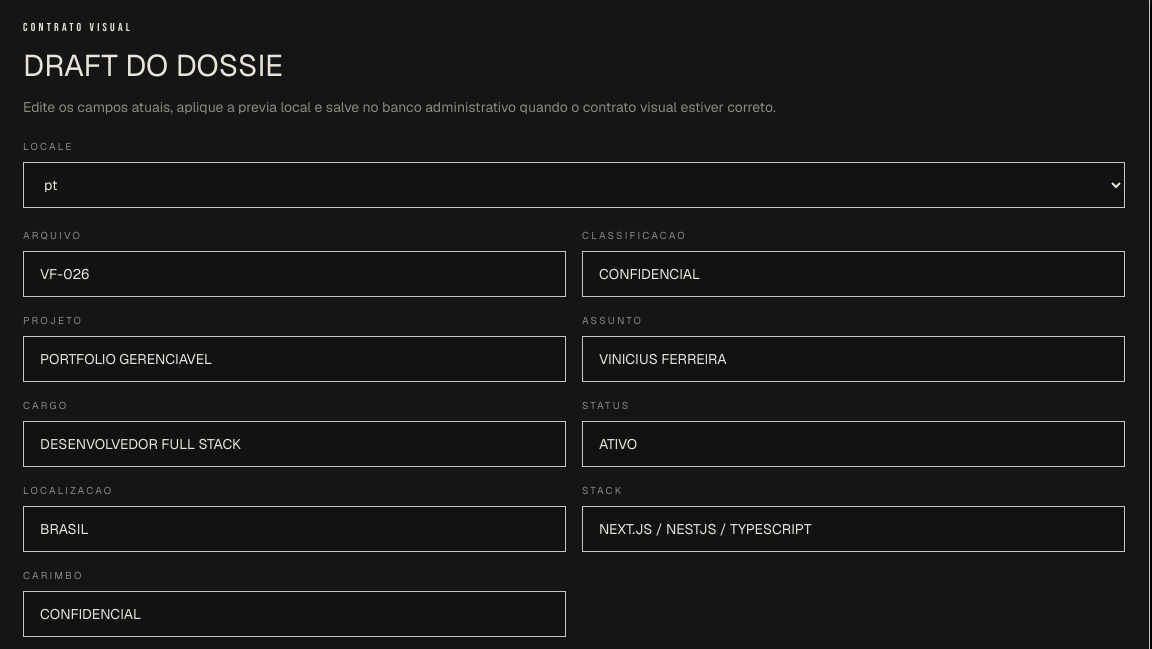
Scenario: AdminDossierPreviewPage › applies normalized edits to the preview
(page scrolled)
Replace the text in the field labelled "Projeto" with " PROJETO DE TESTE " at (294, 359), box left=23, top=336, right=566, bottom=382
(page scrolled)
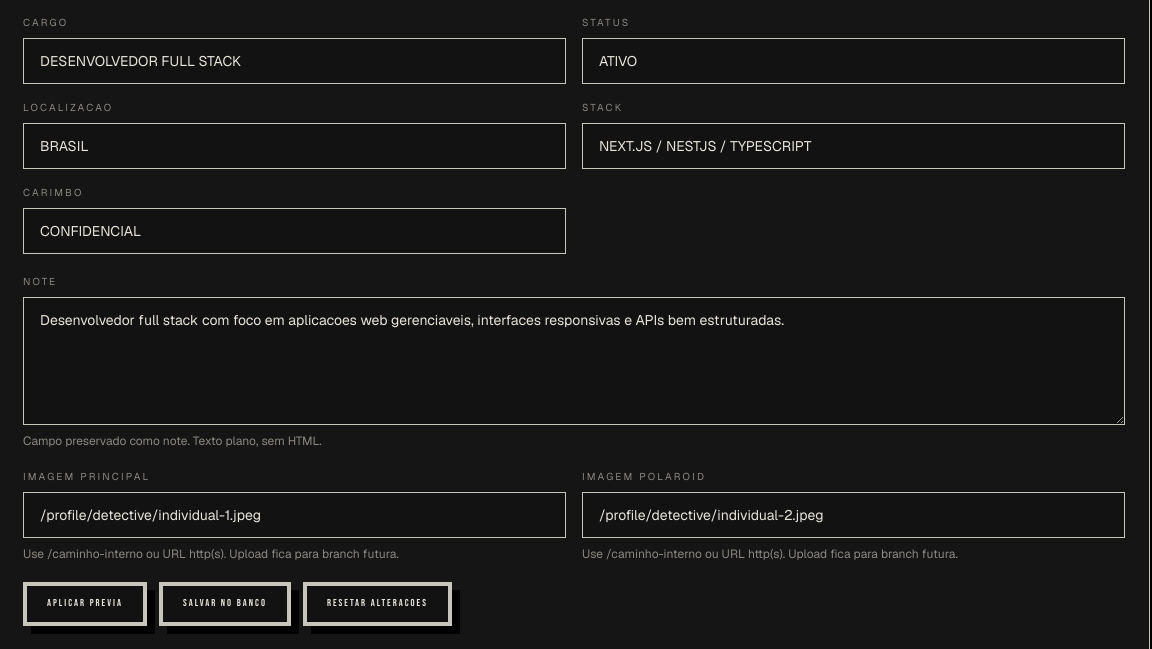
Replace the text in the text box labelled "Note" with " Nota com Acentos e Casing Preservado. " at (574, 361), box left=23, top=297, right=1125, bottom=425
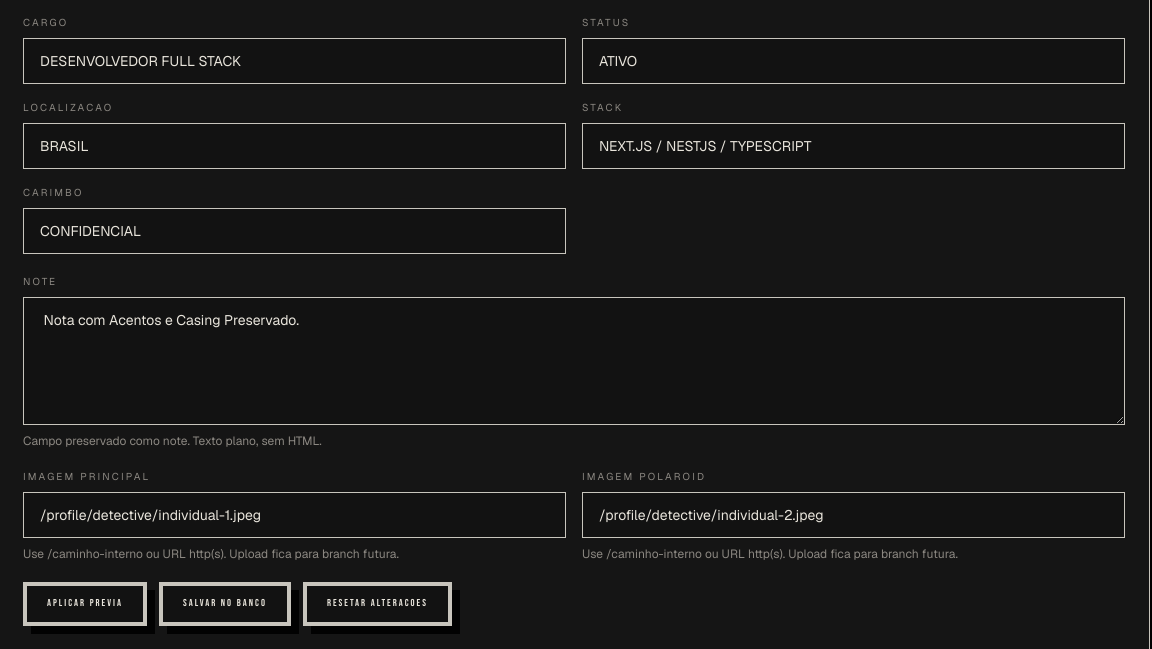
Click the button "Aplicar previa" at (85, 604), box left=23, top=582, right=147, bottom=626
(page scrolled)
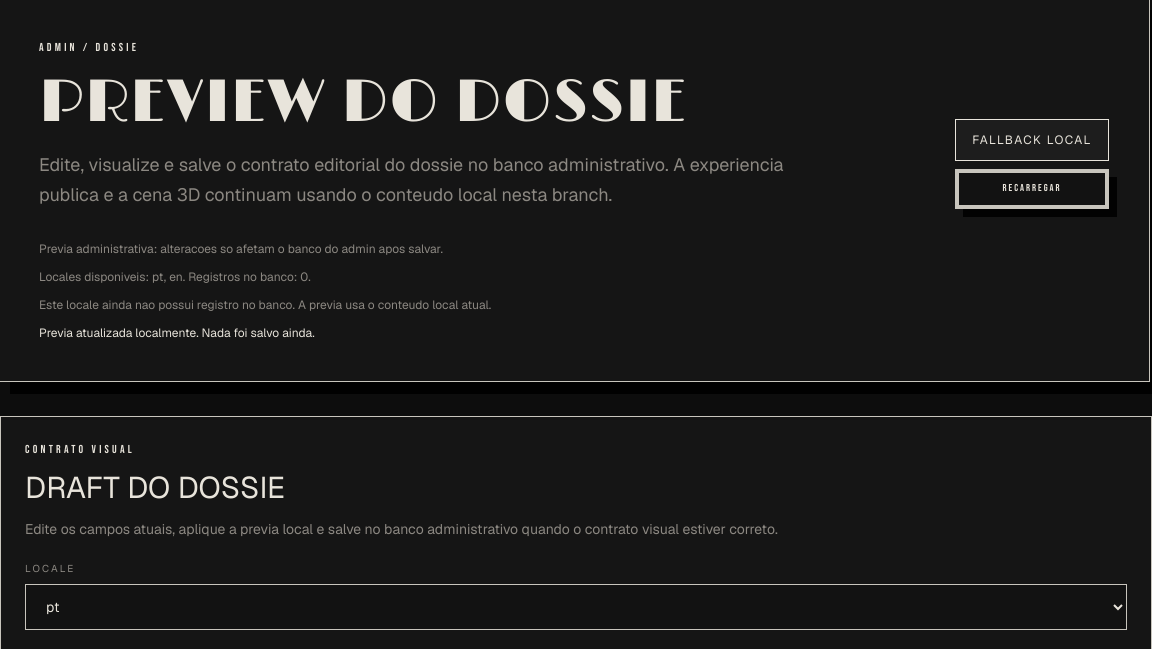
Expected: the text "Previa atualizada localmente. Nada foi salvo ainda." is shown, left=39, top=325, right=315, bottom=341
